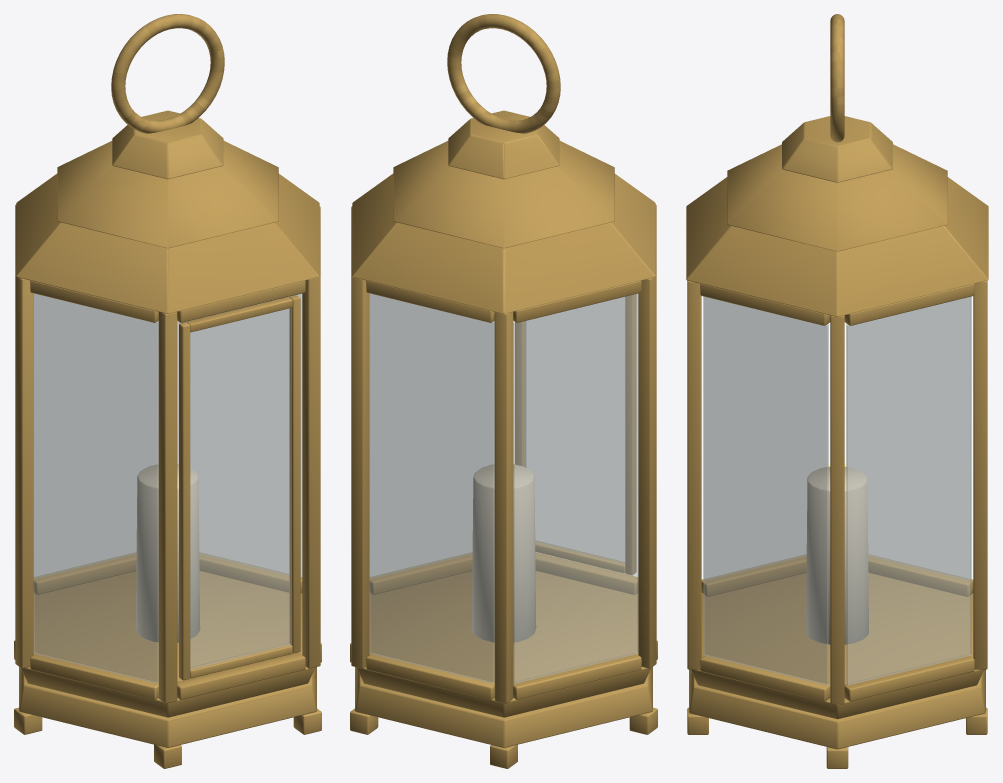
Rendered from lantern.glb.
The picture shows the model from 3 angles, left to right: view 1: azimuth 30°, elevation 25°; view 2: azimuth 150°, elevation 25°; view 3: azimuth 270°, elevation 25°; orthographic projection.
Parts seen in each view (by area): view 1: Glass, Roof, Frame, Door_Glass, Base, Door, Candle, Handle; view 2: Glass, Roof, Frame, Base, Door_Glass, Candle, Door, Handle; view 3: Glass, Roof, Base, Frame, Candle, Handle.
Part boxes in pixels (<box>): Glass: <box>33,293,302,683</box>; Roof: <box>16,110,319,313</box>; Frame: <box>15,204,320,703</box>; Door_Glass: <box>190,308,291,669</box>; Base: <box>14,571,321,768</box>; Door: <box>179,295,300,680</box>; Candle: <box>135,464,200,642</box>; Handle: <box>111,14,224,133</box>; Glass: <box>369,293,638,683</box>; Roof: <box>352,110,655,313</box>; Frame: <box>351,204,656,703</box>; Base: <box>350,571,657,768</box>; Door_Glass: <box>524,297,624,563</box>; Candle: <box>471,464,536,642</box>; Door: <box>515,294,636,575</box>; Handle: <box>447,14,560,133</box>; Glass: <box>703,296,971,685</box>; Roof: <box>686,116,988,316</box>; Base: <box>687,573,987,768</box>; Frame: <box>687,280,987,704</box>; Candle: <box>806,466,868,644</box>; Handle: <box>830,14,844,142</box>.
Size of the model in its own units: 0.1951 by 0.418 by 0.1693.
4 materials, 1 textured.
